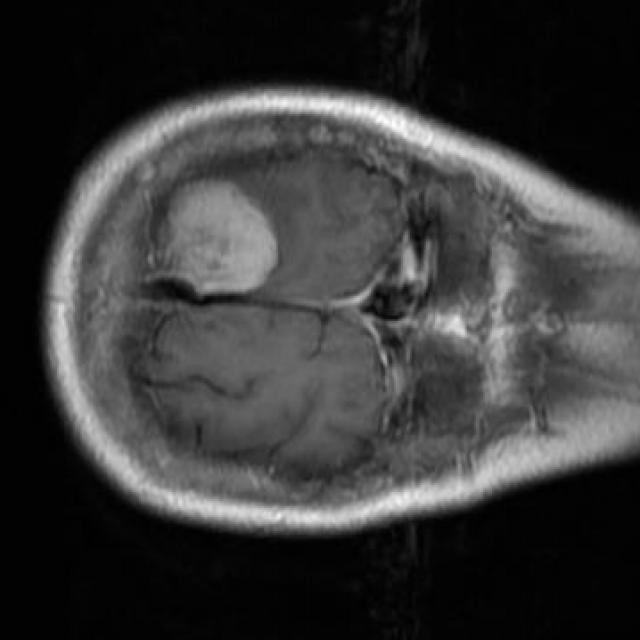meningioma: (173, 182, 276, 294)
